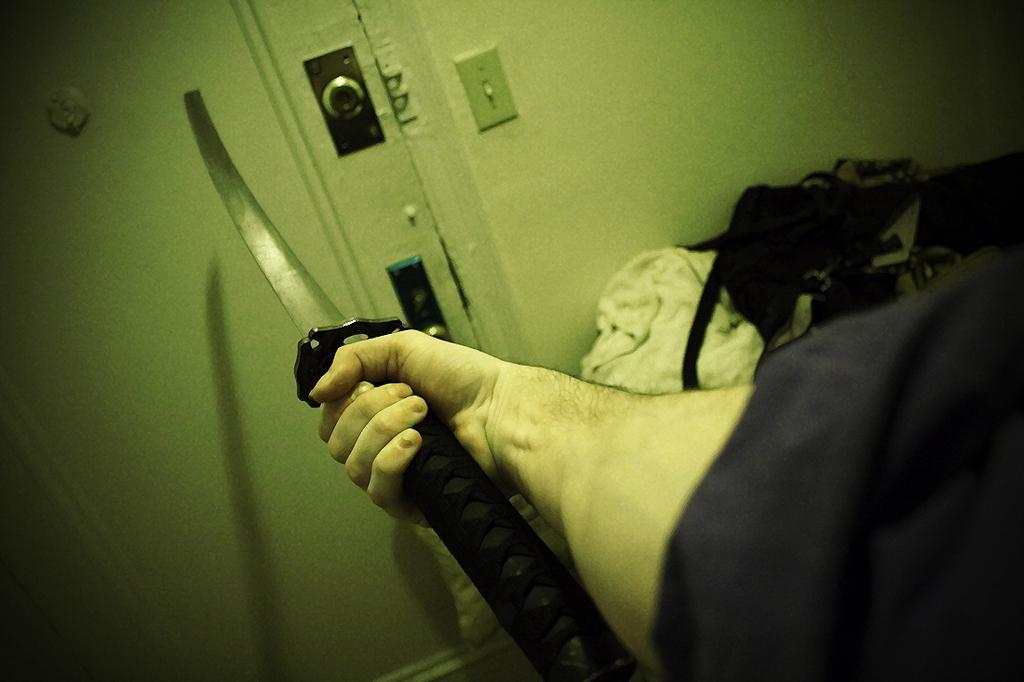Knife: (184, 87, 635, 681)
